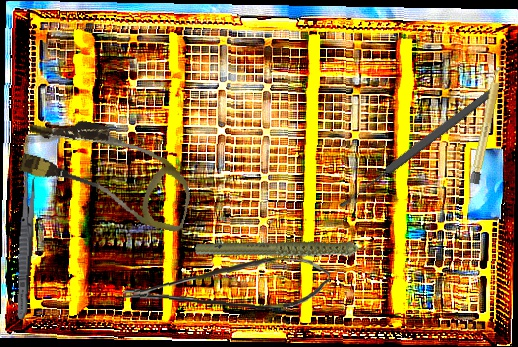Cannula: (14, 108, 202, 234)
Dressing Forceps: (14, 172, 37, 320)
Handpiece: (193, 203, 386, 301)
Micro Scissor: (122, 248, 331, 314)
Scalpel Handle: (469, 65, 505, 185)
Surgical Spoon: (337, 84, 499, 211)
